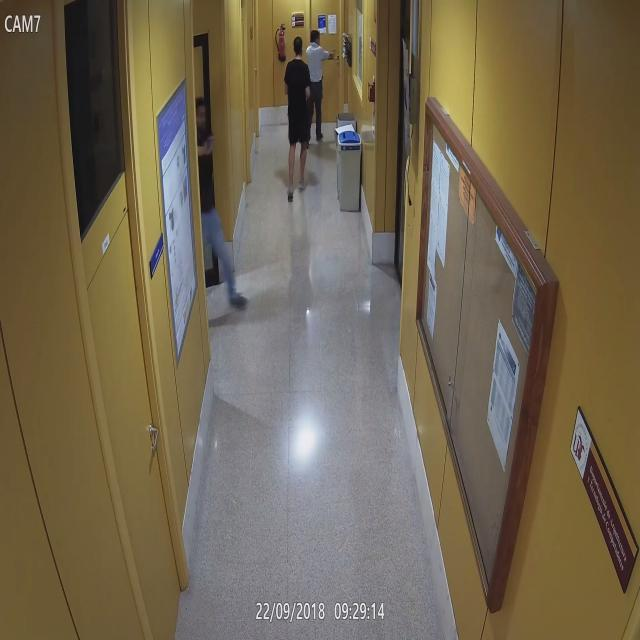Gun: (202, 134, 218, 156), (328, 47, 337, 63)
